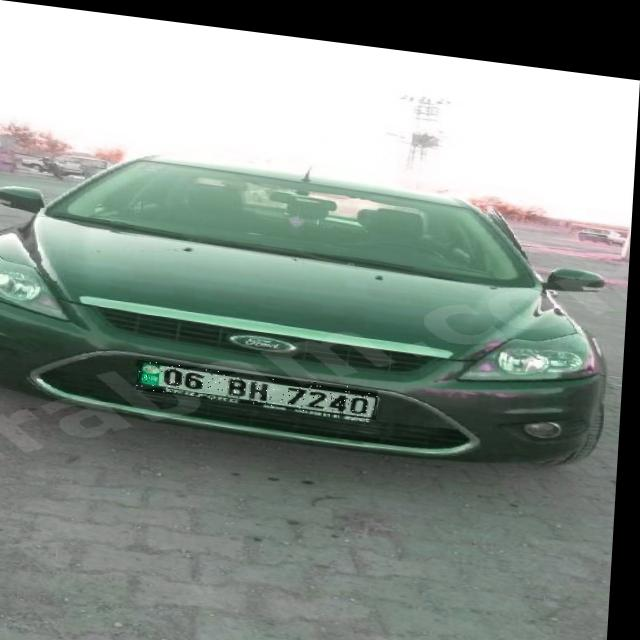license_plate: (141, 356, 382, 409)
